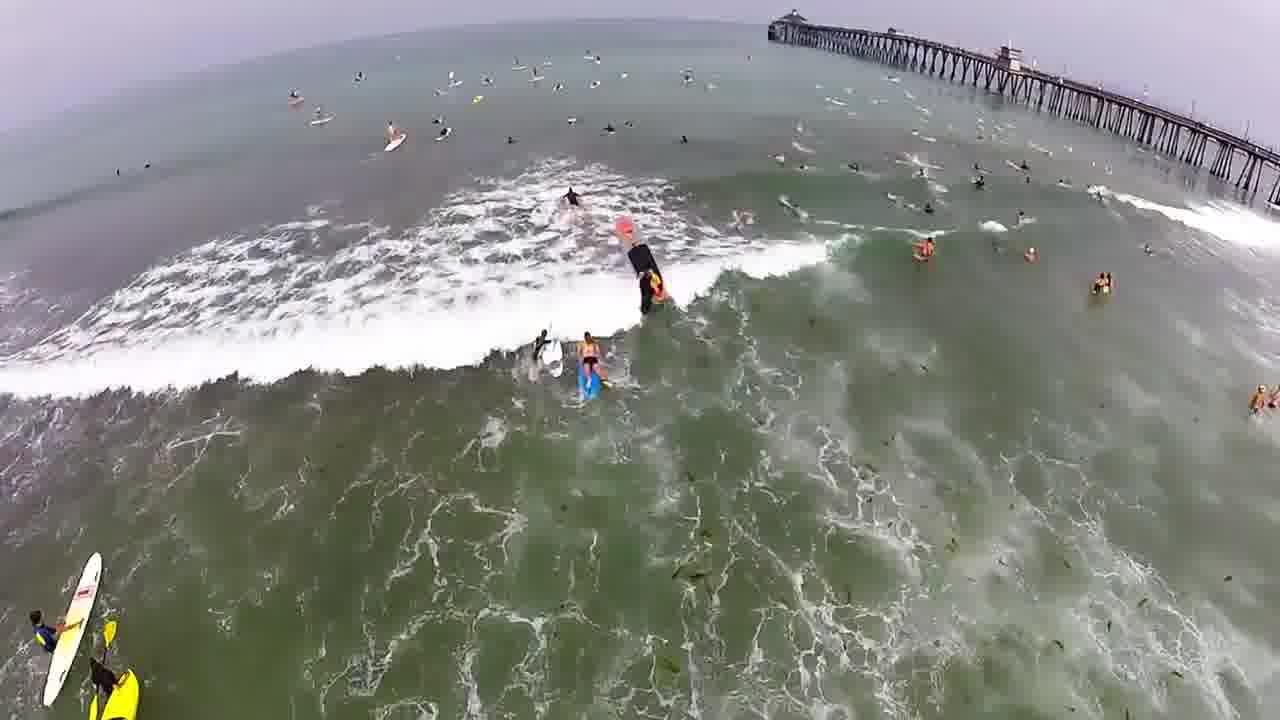human: (1008, 235, 1048, 269), (671, 130, 711, 155), (498, 132, 530, 151)
